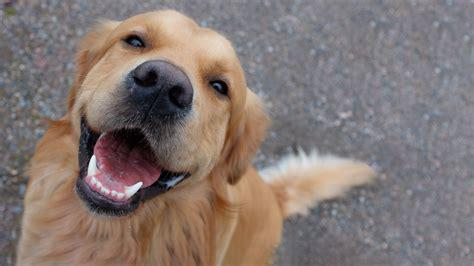dog: (16, 10, 369, 266)
